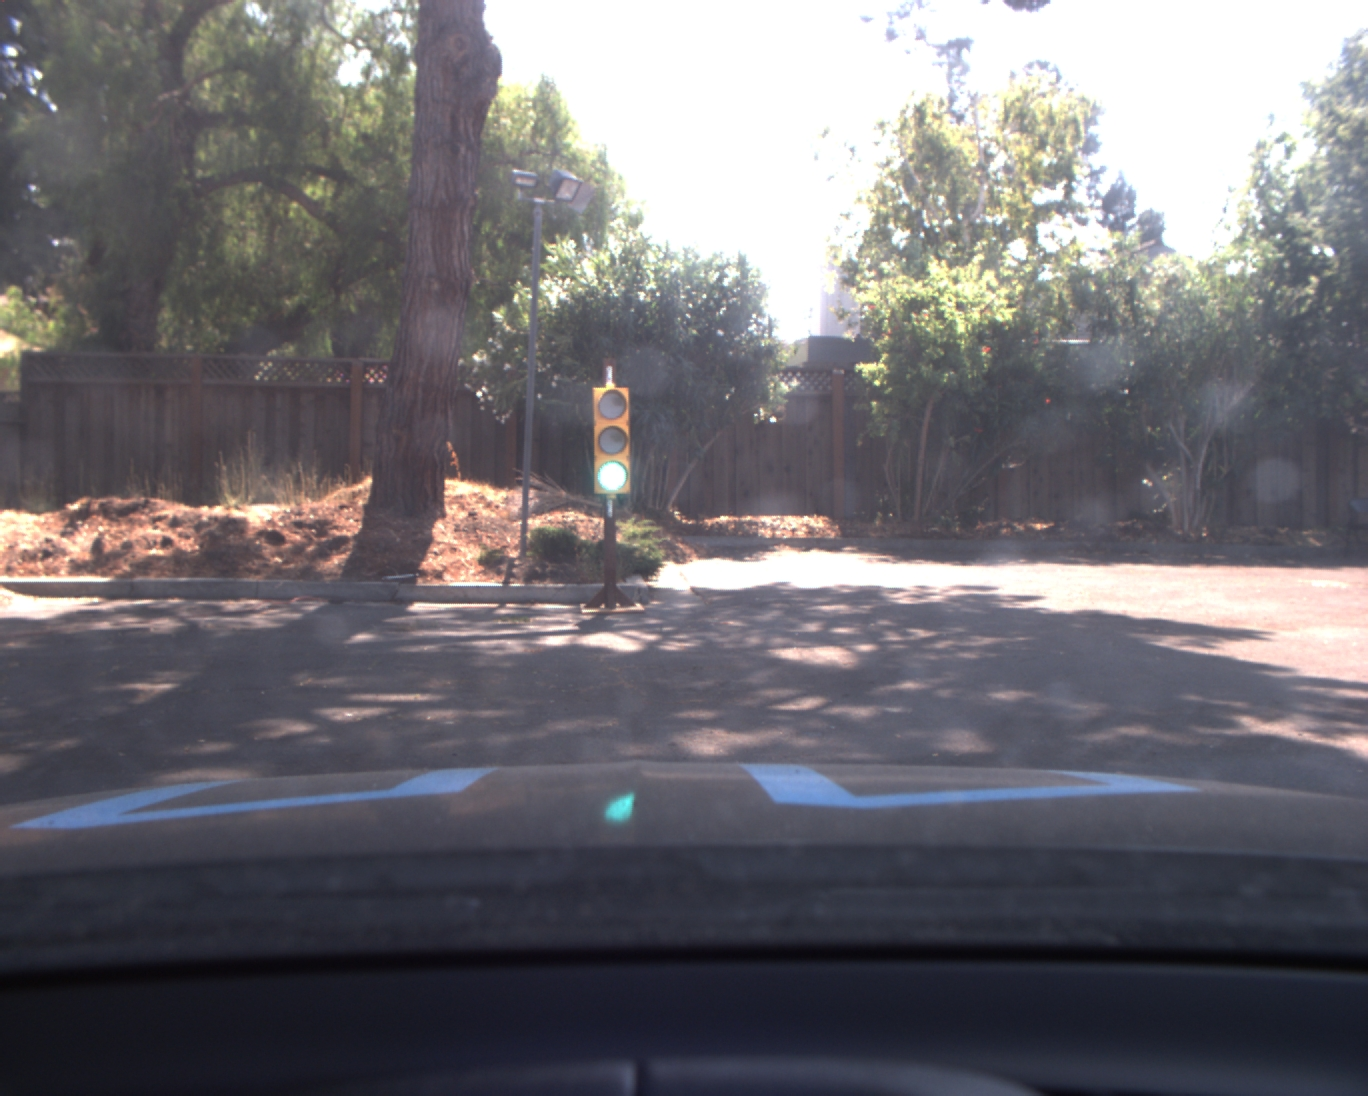green: (591, 383, 636, 501)
